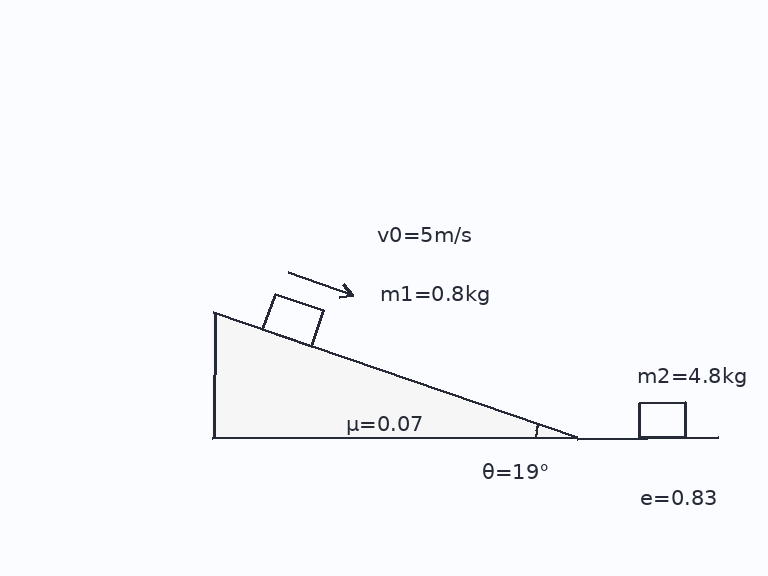block: (261, 292, 325, 348), (637, 401, 687, 439)
ramp: (211, 310, 578, 439)
